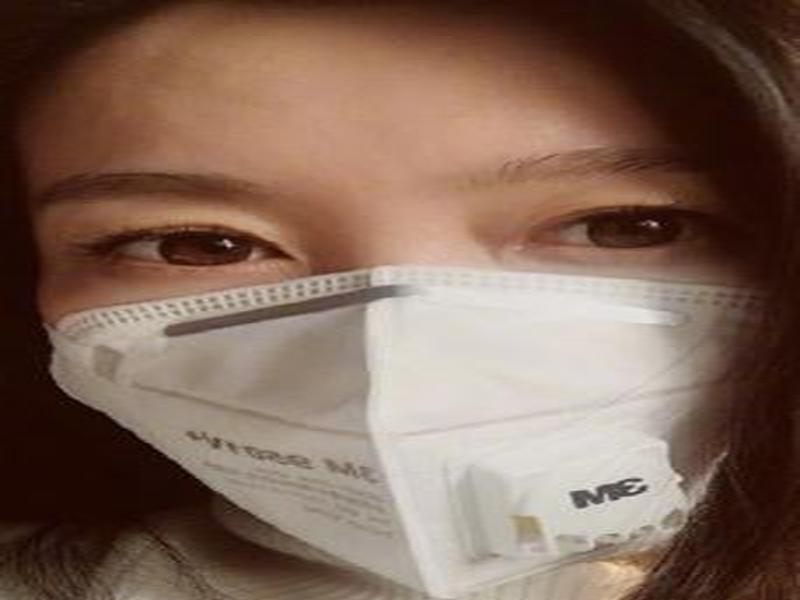with_mask: (30, 2, 781, 591)
